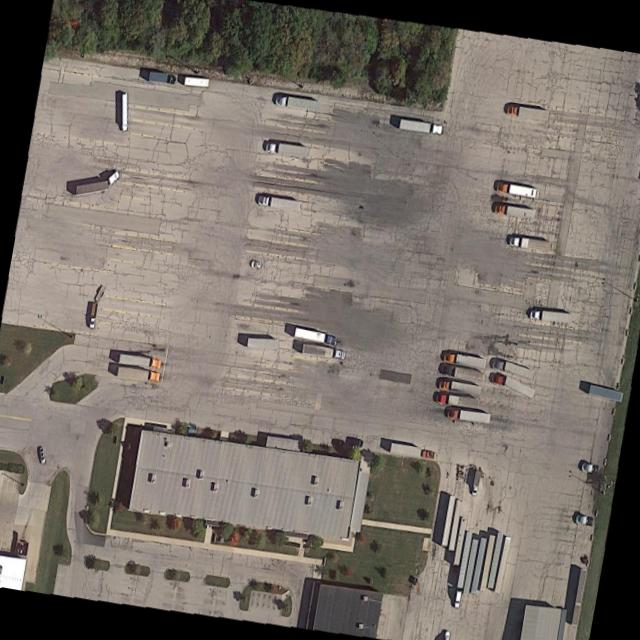large-vehicle: (75, 168, 117, 204), (452, 532, 471, 609), (493, 369, 533, 402), (85, 282, 105, 331), (503, 103, 550, 123), (442, 349, 486, 370), (492, 356, 530, 380), (263, 138, 306, 159), (492, 180, 537, 200), (273, 93, 319, 112), (507, 234, 552, 253), (440, 365, 484, 384), (437, 378, 481, 396), (435, 393, 479, 411), (257, 194, 301, 212), (398, 118, 442, 136), (294, 327, 335, 346), (117, 353, 160, 371), (493, 202, 536, 219), (447, 407, 490, 424), (301, 344, 344, 361), (116, 367, 159, 384), (529, 308, 572, 324), (148, 72, 175, 86), (120, 92, 126, 131)
small-vehicle: (470, 469, 480, 497), (579, 461, 592, 474), (37, 445, 45, 466), (574, 514, 585, 526), (249, 259, 261, 270)
